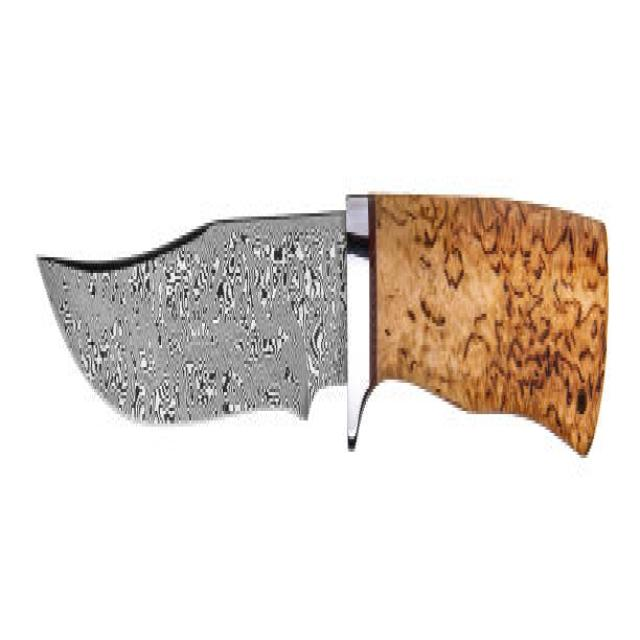knife: (34, 183, 612, 472)
